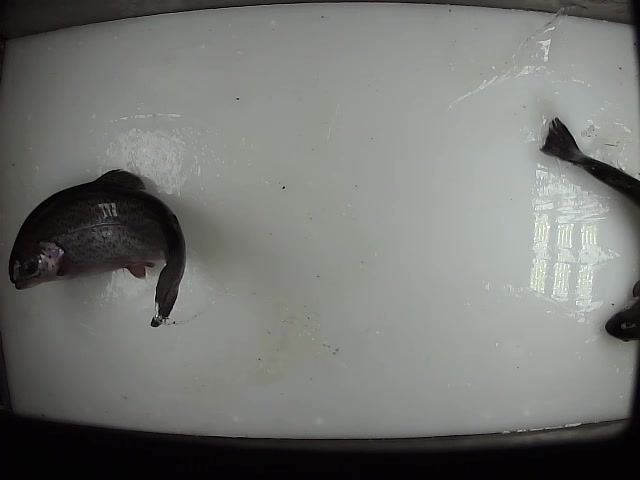fish: (7, 168, 187, 330)
